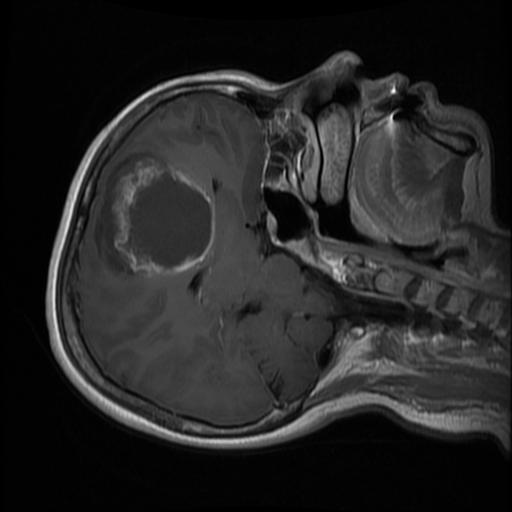glioma: (90, 154, 218, 281)
